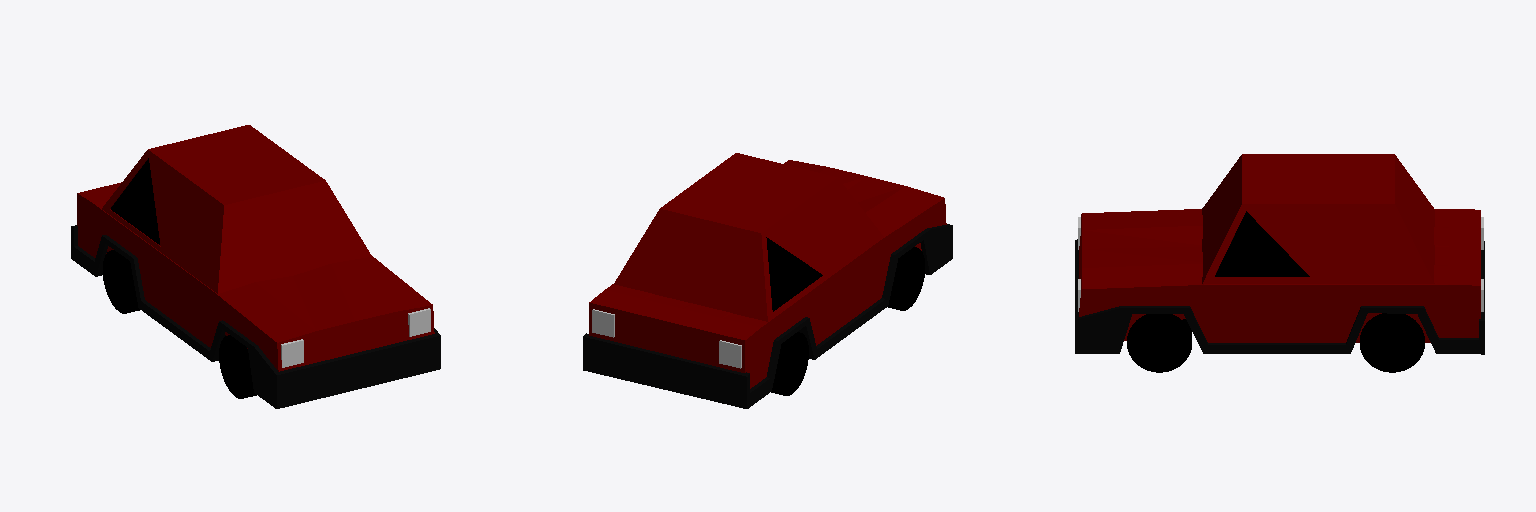
Rendered from car.obj.
3 views of the same model, side by side, from view 1: azimuth 30°, elevation 25°; view 2: azimuth 150°, elevation 25°; view 3: azimuth 270°, elevation 25° (orthographic).
Parts seen in each view (by area): view 1: Body_(upper)_Cube.002, Body_(lower)_Cube.001, Bottom_Cube.003, Right_Back_Cube.005, Tire_001_Cylinder.010, Tire_003_Cylinder.012, Headlight_001_Cube.012, Headlight_002_Cube.013; view 2: Body_(upper)_Cube.002, Body_(lower)_Cube.001, Bottom_Cube.003, Right_Back_Cube.005, Tire_003_Cylinder.012, Tire_001_Cylinder.010, Taillight_002_Cube.014, Taillight_001_Cube.015; view 3: Body_(lower)_Cube.001, Body_(upper)_Cube.002, Bottom_Cube.003, Left_Front_Cube.008, Tire_002_Cylinder.002, Tire_004_Cylinder.013.
Boxes of the visible parts, x1=… form: Body_(upper)_Cube.002: x1=102, y1=125, x2=371, y2=293; Body_(lower)_Cube.001: x1=77, y1=182, x2=434, y2=371; Bottom_Cube.003: x1=71, y1=225, x2=440, y2=408; Right_Back_Cube.005: x1=111, y1=158, x2=159, y2=244; Tire_001_Cylinder.010: x1=219, y1=335, x2=256, y2=398; Tire_003_Cylinder.012: x1=103, y1=250, x2=139, y2=313; Headlight_001_Cube.012: x1=281, y1=339, x2=303, y2=367; Headlight_002_Cube.013: x1=408, y1=308, x2=430, y2=336; Body_(upper)_Cube.002: x1=614, y1=153, x2=883, y2=321; Body_(lower)_Cube.001: x1=589, y1=160, x2=946, y2=388; Bottom_Cube.003: x1=583, y1=224, x2=952, y2=408; Right_Back_Cube.005: x1=766, y1=237, x2=822, y2=311; Tire_003_Cylinder.012: x1=771, y1=332, x2=808, y2=395; Tire_001_Cylinder.010: x1=888, y1=247, x2=924, y2=310; Taillight_002_Cube.014: x1=592, y1=309, x2=614, y2=337; Taillight_001_Cube.015: x1=719, y1=340, x2=741, y2=368; Body_(lower)_Cube.001: x1=1079, y1=209, x2=1480, y2=342; Body_(upper)_Cube.002: x1=1202, y1=154, x2=1434, y2=284; Bottom_Cube.003: x1=1075, y1=239, x2=1484, y2=354; Left_Front_Cube.008: x1=1215, y1=211, x2=1309, y2=276; Tire_002_Cylinder.002: x1=1127, y1=314, x2=1191, y2=372; Tire_004_Cylinder.013: x1=1360, y1=313, x2=1424, y2=372.
Bounding box in the file's own units: 2.1 × 1.89 × 4.56.